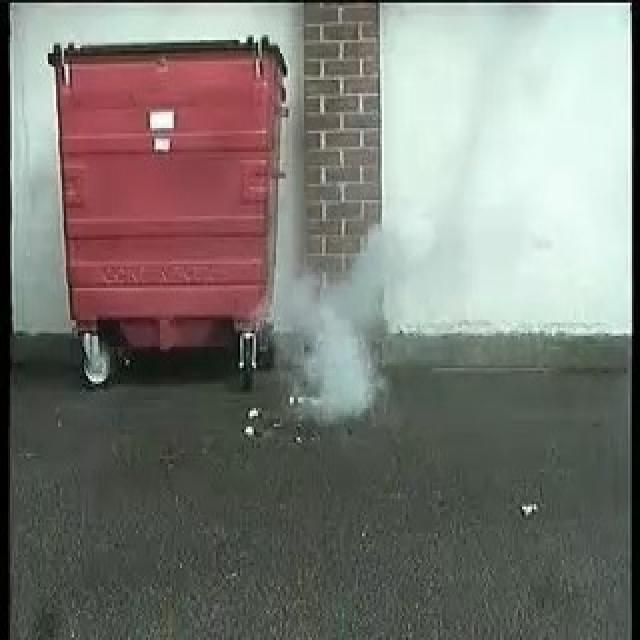Smoke: (274, 241, 398, 417)
